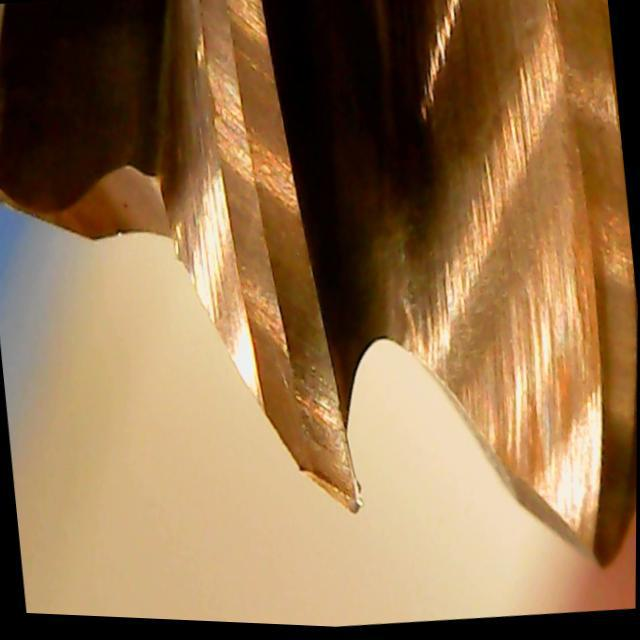Tool-wear-class-1: (252, 315, 391, 535)
